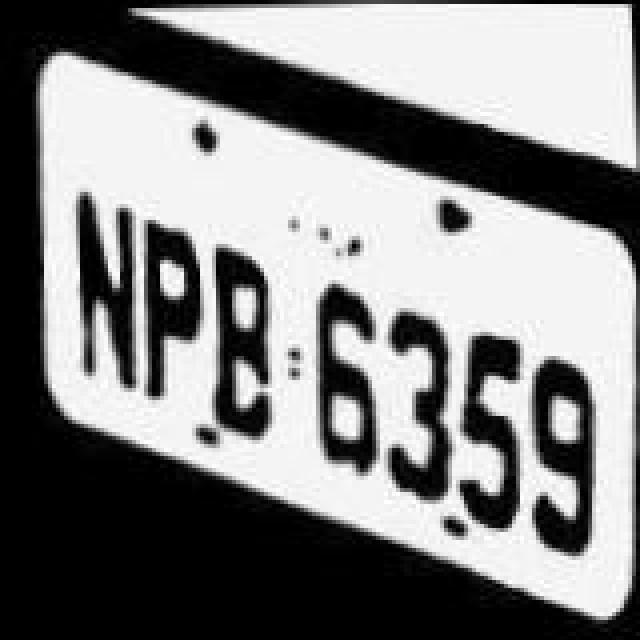3: (372, 250, 456, 506)
5: (444, 262, 528, 530)
6: (294, 260, 382, 496)
9: (508, 280, 596, 568)
B: (192, 224, 280, 460)
N: (54, 124, 142, 404)
P: (132, 194, 212, 410)
